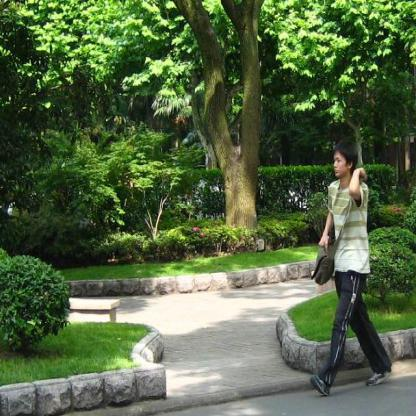person: (292, 139, 401, 396)
